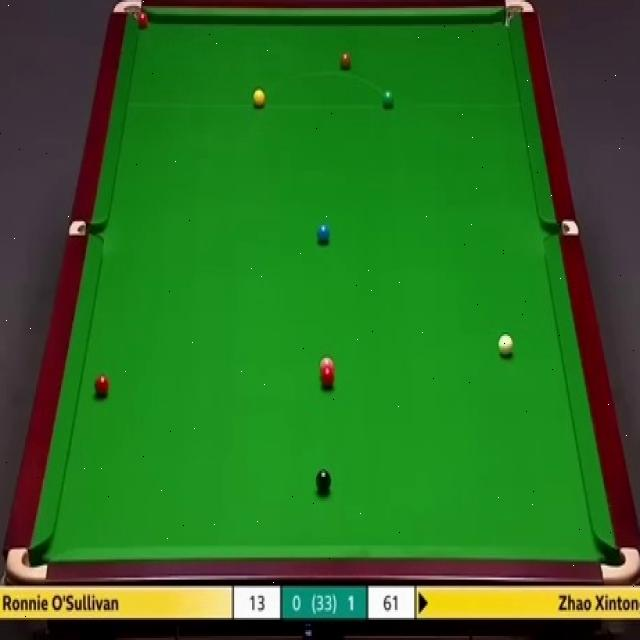black-ball: (316, 468, 331, 492)
blue-ball: (316, 222, 331, 242)
brown-ball: (339, 51, 351, 69)
green-ball: (381, 87, 394, 109)
pink-ball: (319, 354, 335, 372)
red-ball: (95, 374, 109, 396), (319, 370, 334, 387)
white-ball: (498, 331, 514, 358)
yellow-ball: (252, 89, 266, 109)
